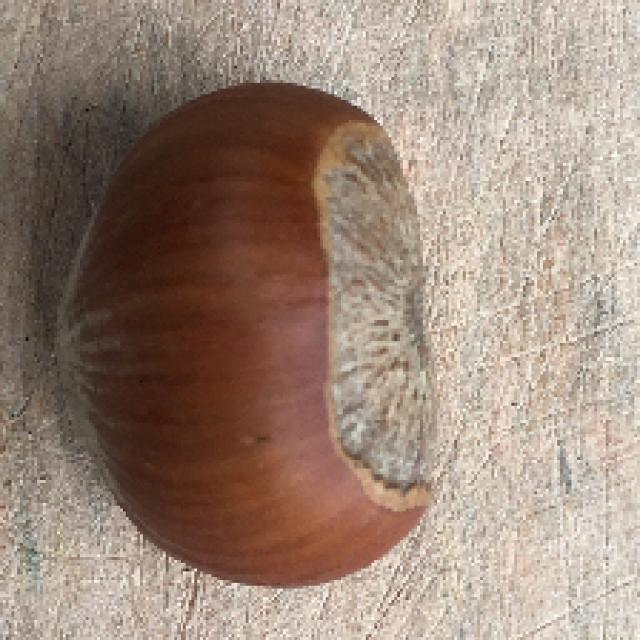qualityHazelnut: (57, 88, 437, 589)
